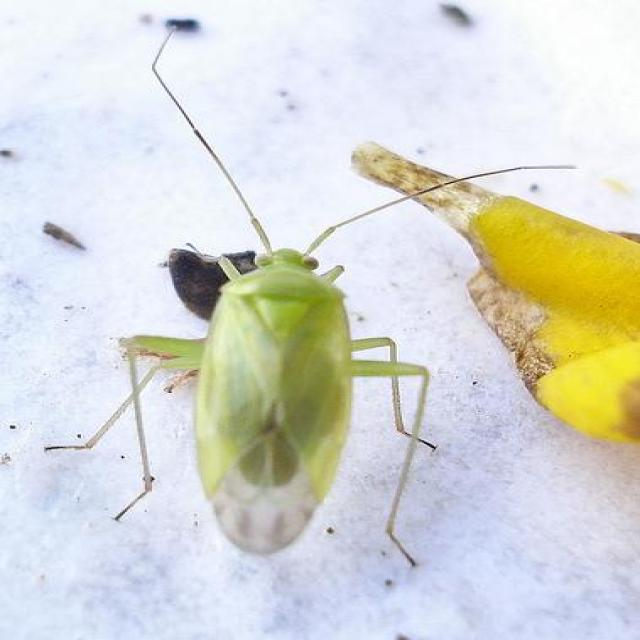Miridae-Adult-: (86, 26, 470, 571)
